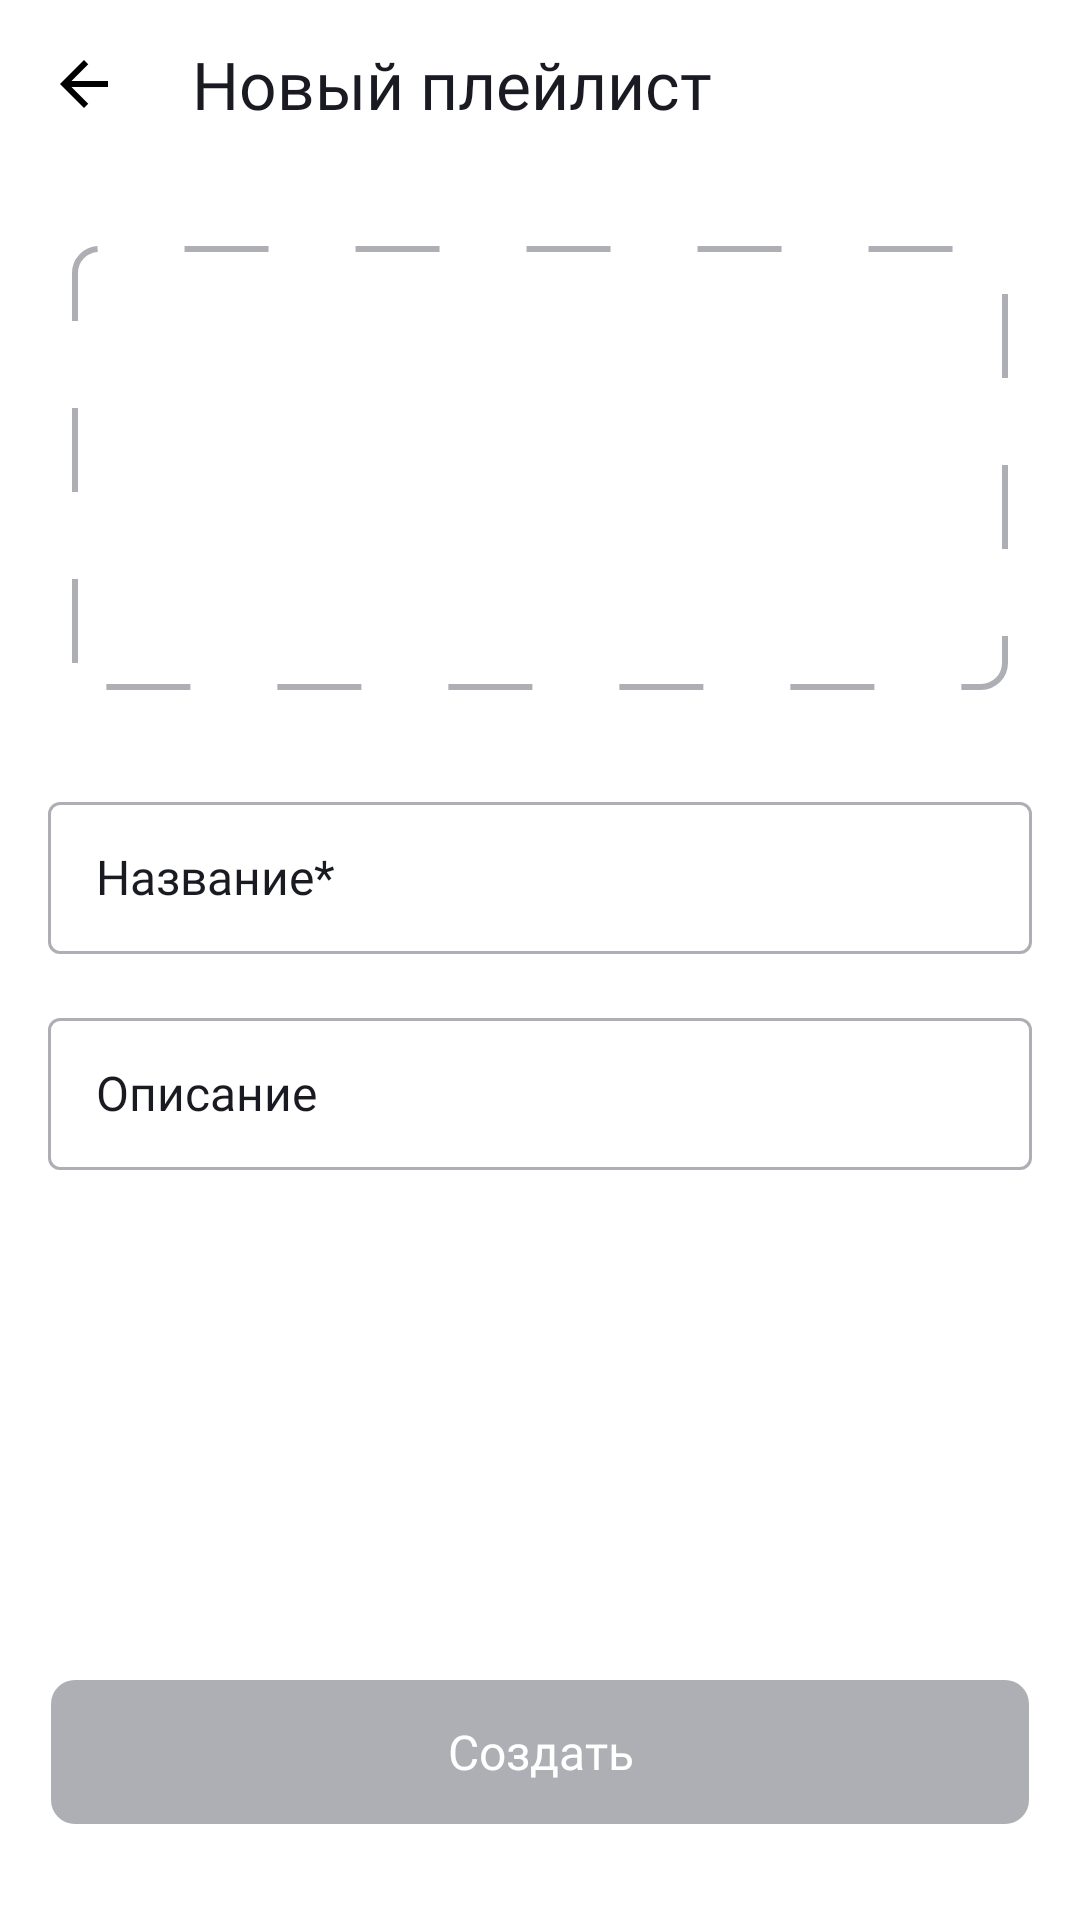

Screen size 1080*1920. Icon name, then its center in pixels as [x,y]:
back day night: [84,84]
